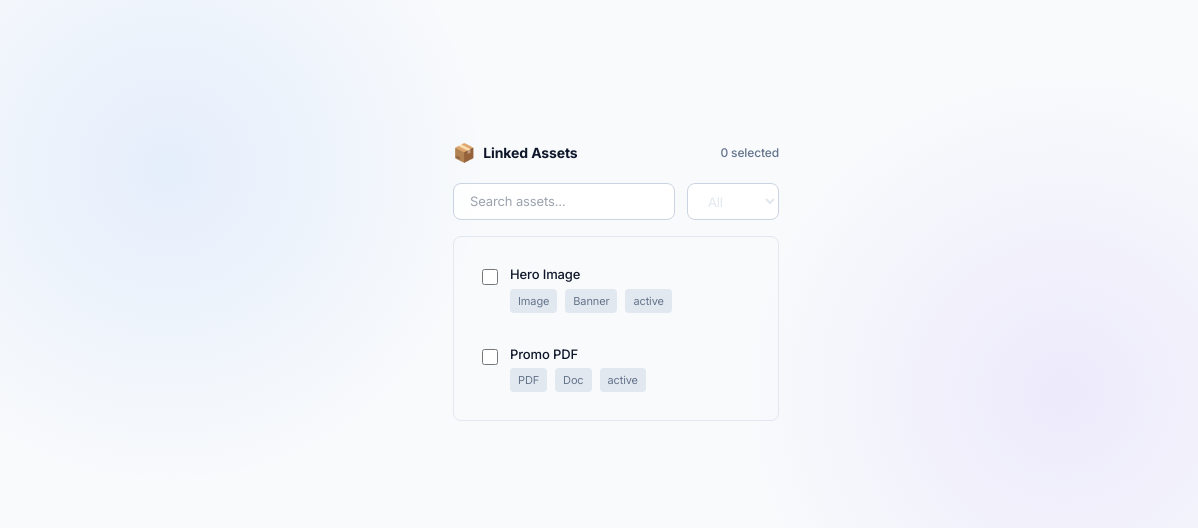
Scenario: renders assets and filters by search
Expected: the text "Hero Image" is shown, [510, 266, 580, 282]
Expected: the text "Promo PDF" is shown, [510, 346, 578, 362]
// type filter should include 'Image' and 'PDF'
Type "Hero" into the field with placeholder "Search assets..." at (564, 202), box [453, 183, 675, 220]
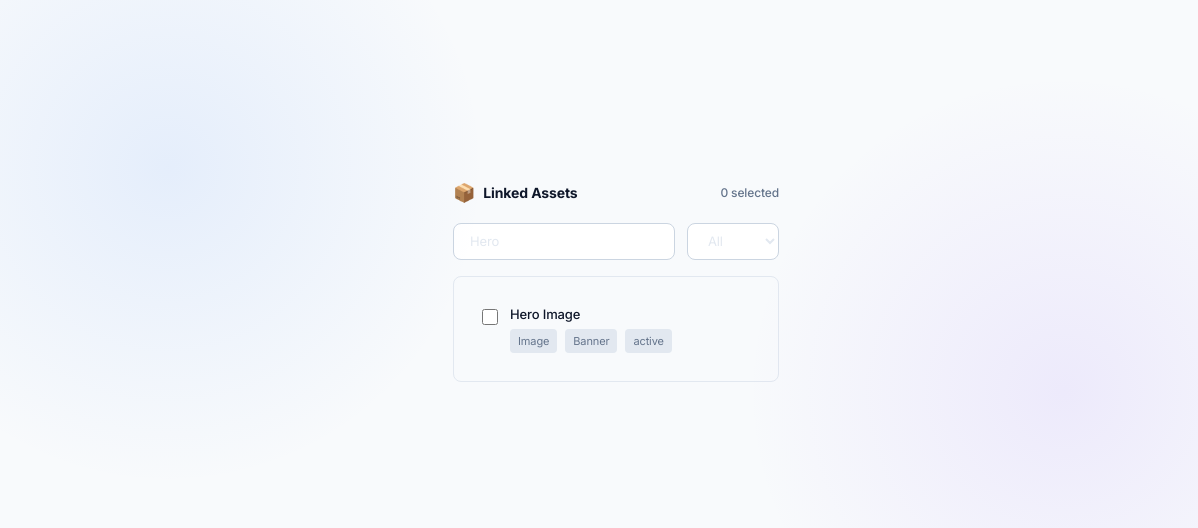
Expected: the text "Hero Image" is shown, [510, 306, 580, 322]
Result: the text "Promo PDF" is gone
